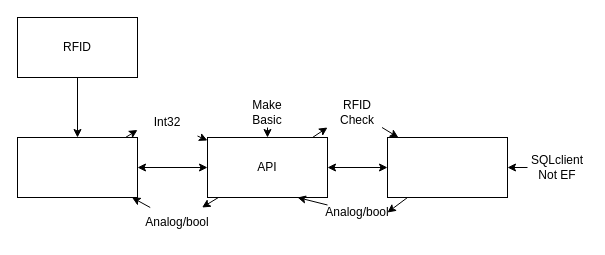
This 605x255 diagram has some shape labels left out. Each missing label, with the centre of its shape:
Arduino: point (77, 167)
Database: point (447, 167)
